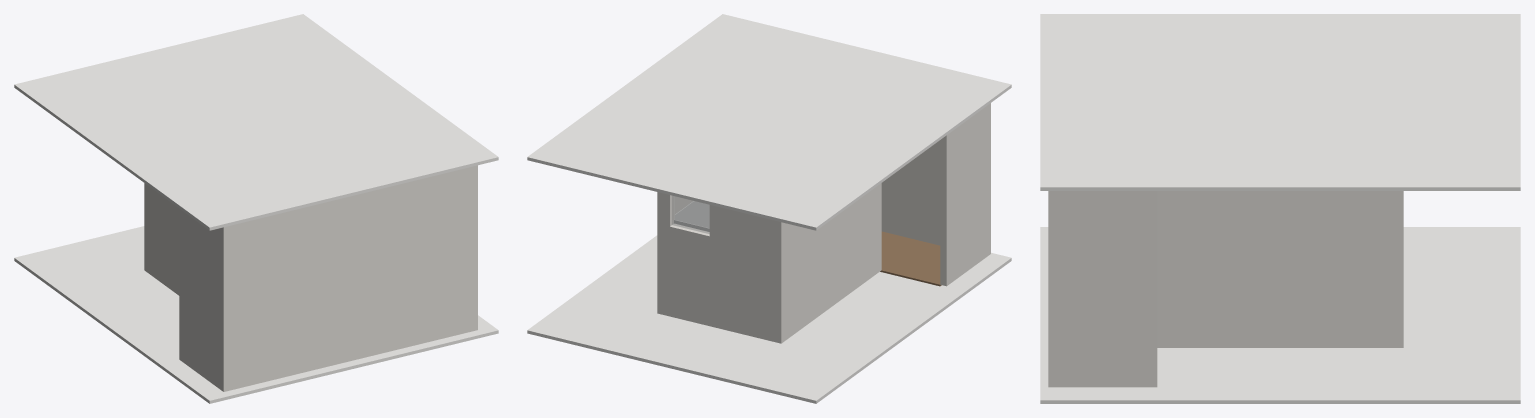
3 views of the same model, side by side, from view 1: azimuth 30°, elevation 25°; view 2: azimuth 150°, elevation 25°; view 3: azimuth 270°, elevation 25° (orthographic). The views are drawn at different scales.
Parts seen in each view (by area): view 1: baked; view 2: baked, window_glass_0; view 3: baked.
Boxes of the visible parts, bbox=[...] form: baked: bbox=[14, 14, 498, 403]; baked: bbox=[527, 14, 1011, 403]; window_glass_0: bbox=[672, 196, 709, 233]; baked: bbox=[1040, 14, 1520, 403].
Size of what is drawn, in the model's own units: 4.44 by 2.59 by 5.21.
